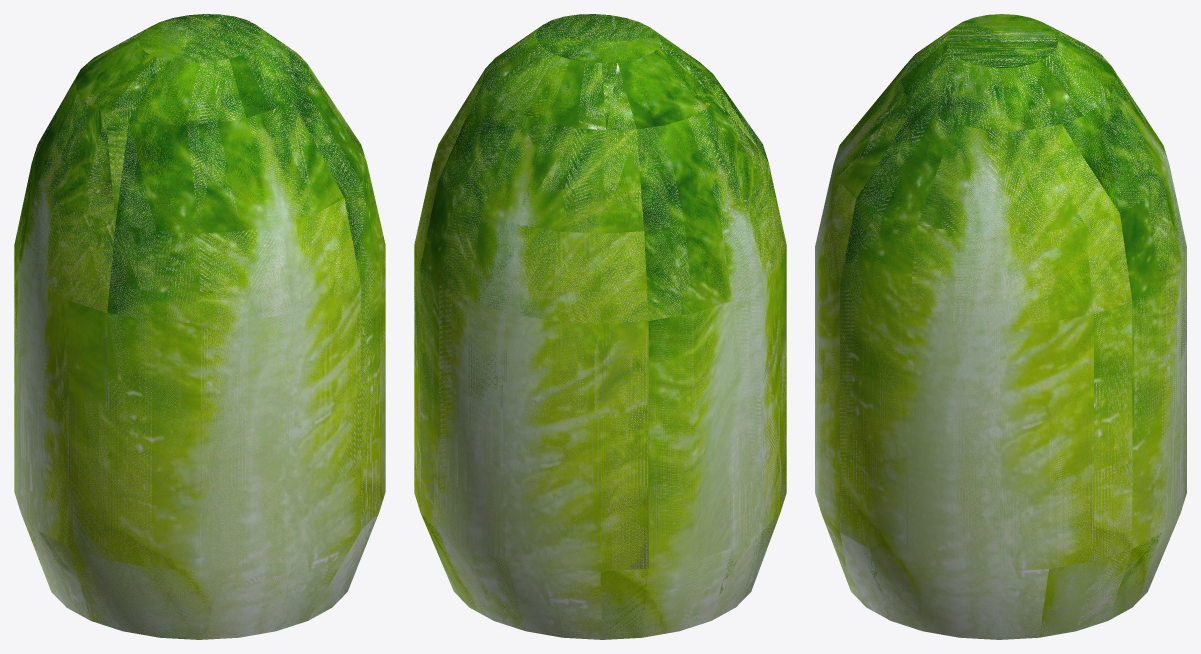
The model's file is lettuce.dae.
3 views of the same model, side by side, from view 1: azimuth 30°, elevation 25°; view 2: azimuth 150°, elevation 25°; view 3: azimuth 270°, elevation 25° (orthographic).
Parts seen in each view (by area): view 1: group_0; view 2: group_0; view 3: group_0.
Boxes of the visible parts, bbox=[...] form: group_0: bbox=[14, 14, 385, 639]; group_0: bbox=[414, 14, 786, 639]; group_0: bbox=[815, 14, 1186, 639].
Bounding box in the file's own units: 1.61 × 1.61 × 2.56.
1 material, 1 textured.
